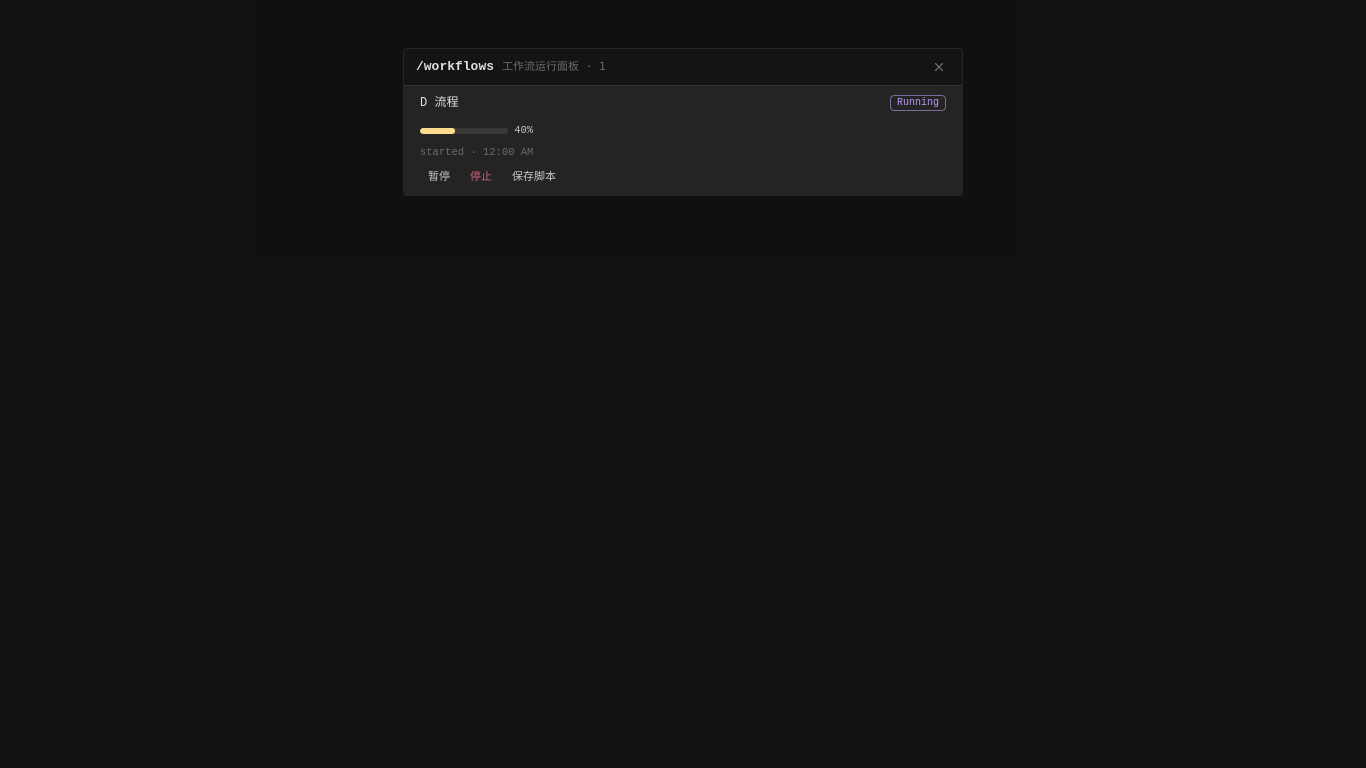
Test case: WorkflowPanel › 点击行 → 详情视图：objective / elapsed / phases 高亮 / roster / script
Click the text "D 流程".
click(439, 103)  # box [420,96,458,110]
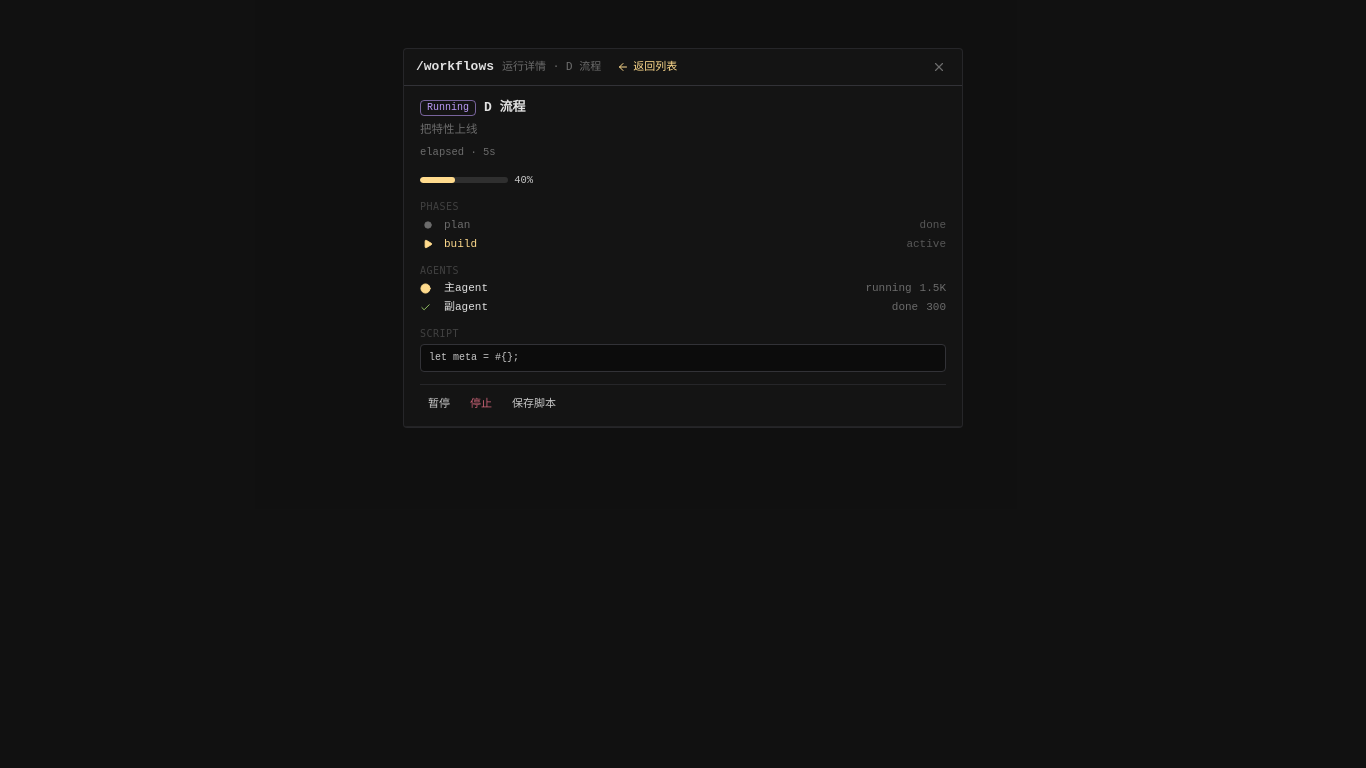
Result: the text "运行详情 · D 流程" is shown at [502,58,601,76]
Result: the text "把特性上线" is shown at [420,122,478,136]
Result: the text "elapsed · 5s" is shown at [420,144,496,160]
